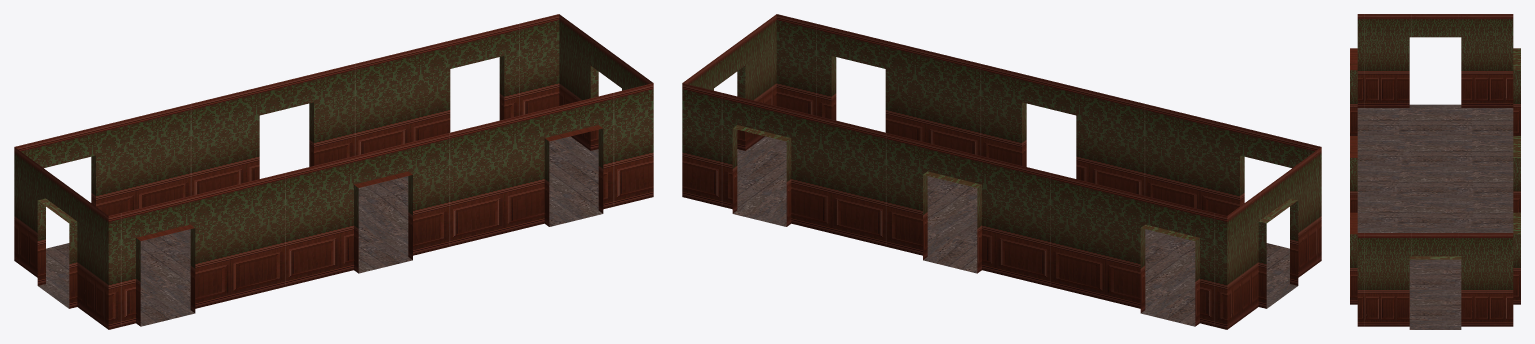
The model's file is room4.glb.
3 views of the same model, side by side, from view 1: azimuth 30°, elevation 25°; view 2: azimuth 150°, elevation 25°; view 3: azimuth 270°, elevation 25° (orthographic). The views are drawn at different scales.
Visible parts, largest first — view 1: room4; view 2: room4; view 3: room4.
Boxes of the visible parts, x1=… form: room4: x1=14, y1=14, x2=653, y2=329; room4: x1=682, y1=14, x2=1321, y2=329; room4: x1=1350, y1=14, x2=1520, y2=329.
Bounding box in the file's own units: 20.6 × 4 × 6.6.
2 materials, 2 textured.
